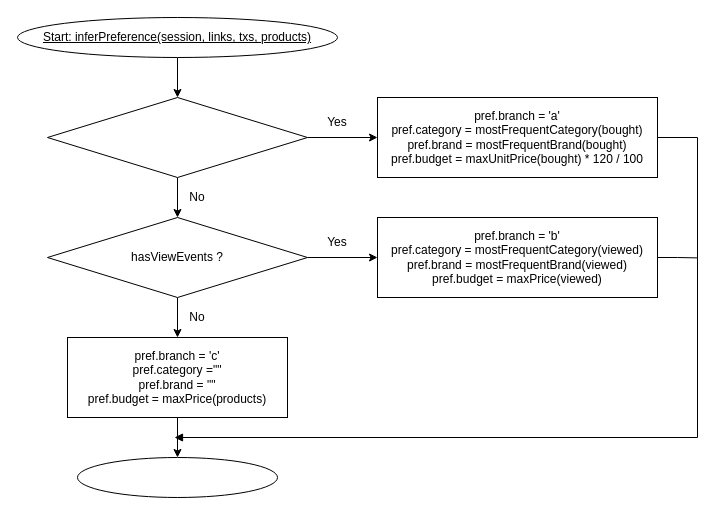
The diagram is 723 pixels wide and 515 high, and some of its shapes have lost their labels. Each missing label, with the centre of its shape:
"End: return pref" goes at point 177,477.
"isIdentified && hasPurchase ?" goes at point 177,137.
